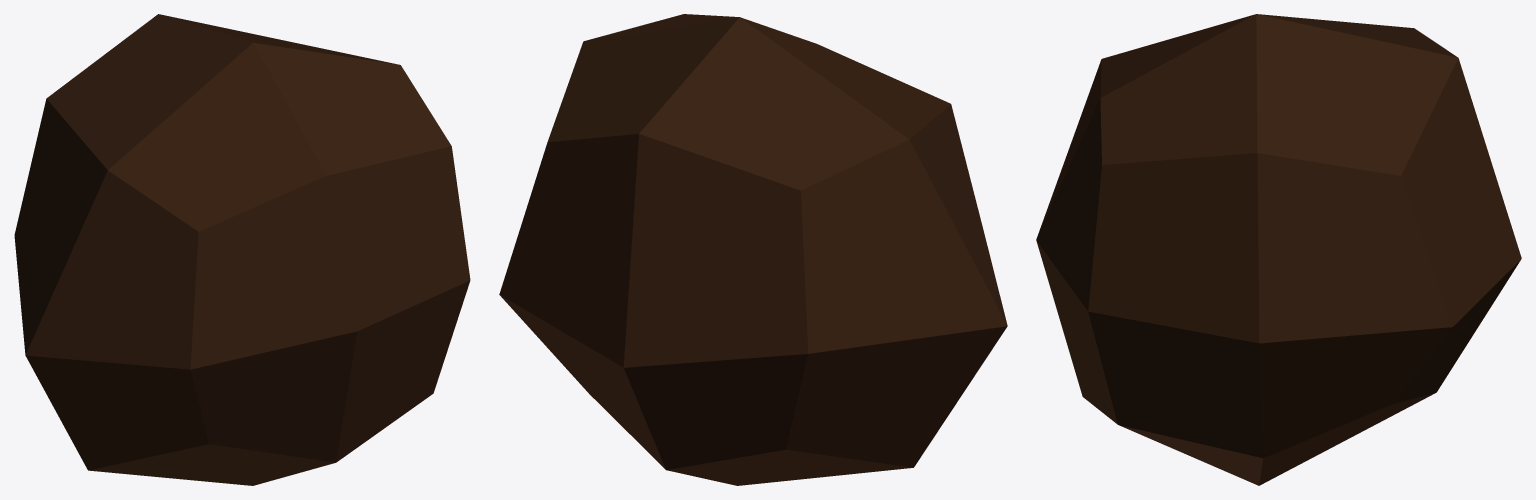
The model's file is Asteroid1Collider.fbx.
The picture shows the model from 3 angles, left to right: view 1: azimuth 30°, elevation 25°; view 2: azimuth 150°, elevation 25°; view 3: azimuth 270°, elevation 25°; orthographic projection. The views are drawn at different scales.
Visible parts, largest first — view 1: Asteroid1Collider; view 2: Asteroid1Collider; view 3: Asteroid1Collider.
Part boxes in pixels (x1,y1,x2,y2): Asteroid1Collider: (14,14,470,485); Asteroid1Collider: (499,14,1007,485); Asteroid1Collider: (1036,14,1521,485).
Size of the model in its own units: 1636 by 1592 by 1486.
